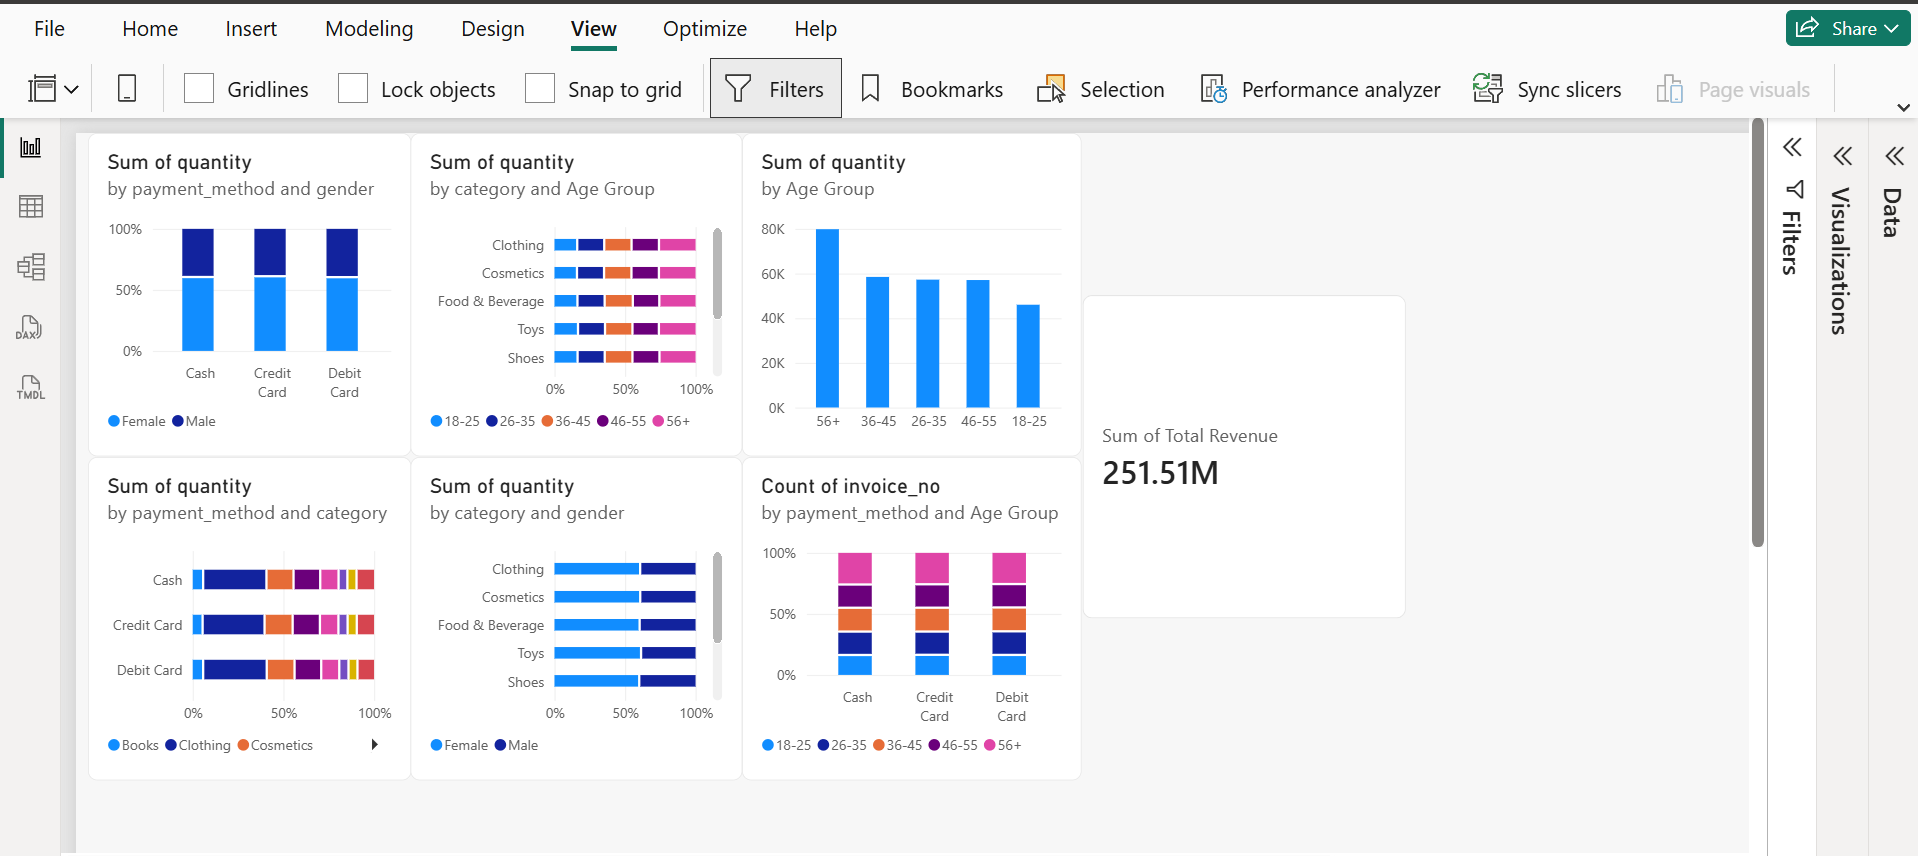

The dashboard page shown, as its layout file describes it:
{"tool":"powerbi","page":{"name":"Page 2","canvas":[1920,1080],"ordinal":1},"visuals":[{"type":"hundredPercentStackedColumnChart","fields":{"Category":["project_customer_segmentation customer.payment_method"],"Series":["project_customer_segmentation customer.gender"],"Y":["Sum(project_customer_segmentation customer.quantity)"]},"box":[10,0,280,280],"z":0},{"type":"hundredPercentStackedBarChart","fields":{"Category":["project_customer_segmentation customer.payment_method"],"Series":["project_customer_segmentation customer.category"],"Y":["Sum(project_customer_segmentation customer.quantity)"]},"box":[10,280,280,280],"z":1},{"type":"cardVisual","fields":{"Data":["Sum(project_customer_segmentation customer.Total Revenue)"]},"box":[871.4,140,280,280],"z":2},{"type":"clusteredColumnChart","fields":{"Category":["project_customer_segmentation customer.Age Group"],"Y":["Sum(project_customer_segmentation customer.quantity)"]},"box":[577.1,0,294.3,280],"z":3},{"type":"hundredPercentStackedBarChart","fields":{"Category":["project_customer_segmentation customer.category"],"Series":["project_customer_segmentation customer.gender"],"Y":["Sum(project_customer_segmentation customer.quantity)"]},"box":[290,280,287.1,280],"z":4},{"type":"hundredPercentStackedBarChart","fields":{"Category":["project_customer_segmentation customer.category"],"Series":["project_customer_segmentation customer.Age Group"],"Y":["Sum(project_customer_segmentation customer.quantity)"]},"box":[290,0,287.1,280],"z":5},{"type":"hundredPercentStackedColumnChart","fields":{"Category":["project_customer_segmentation customer.payment_method"],"Series":["project_customer_segmentation customer.Age Group"],"Y":["CountNonNull(project_customer_segmentation customer.invoice_no)"]},"box":[577.1,280,294.3,280],"z":6}]}

Visuals, with their boxes on the page's 1920x1080 design canvas (x1, y1, x2, y2). These are canvas units, not pixel positions in the 1918x856 screenshot, which may show the page scaled, cropped or inside an application window:
hundredPercentStackedColumnChart - project_customer_segmentation customer.payment_method x project_customer_segmentation customer.gender: {"left": 10, "top": 0, "right": 290, "bottom": 280}
hundredPercentStackedBarChart - project_customer_segmentation customer.payment_method x project_customer_segmentation customer.category: {"left": 10, "top": 280, "right": 290, "bottom": 560}
cardVisual - Sum(project_customer_segmentation customer.Total Revenue): {"left": 871, "top": 140, "right": 1151, "bottom": 420}
clusteredColumnChart - project_customer_segmentation customer.Age Group x Sum(project_customer_segmentation customer.quantity): {"left": 577, "top": 0, "right": 871, "bottom": 280}
hundredPercentStackedBarChart - project_customer_segmentation customer.category x project_customer_segmentation customer.gender: {"left": 290, "top": 280, "right": 577, "bottom": 560}
hundredPercentStackedBarChart - project_customer_segmentation customer.category x project_customer_segmentation customer.Age Group: {"left": 290, "top": 0, "right": 577, "bottom": 280}
hundredPercentStackedColumnChart - project_customer_segmentation customer.payment_method x project_customer_segmentation customer.Age Group: {"left": 577, "top": 280, "right": 871, "bottom": 560}
